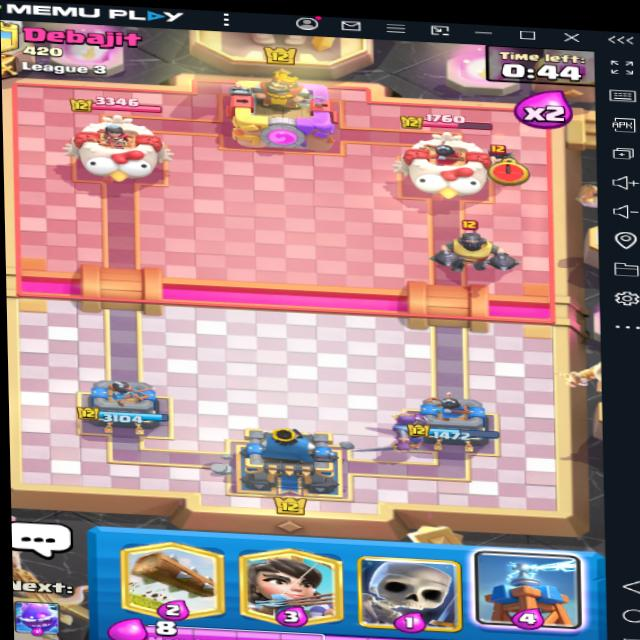electro-wizard: (478, 140, 541, 180)
mega-knight: (439, 220, 530, 286)
